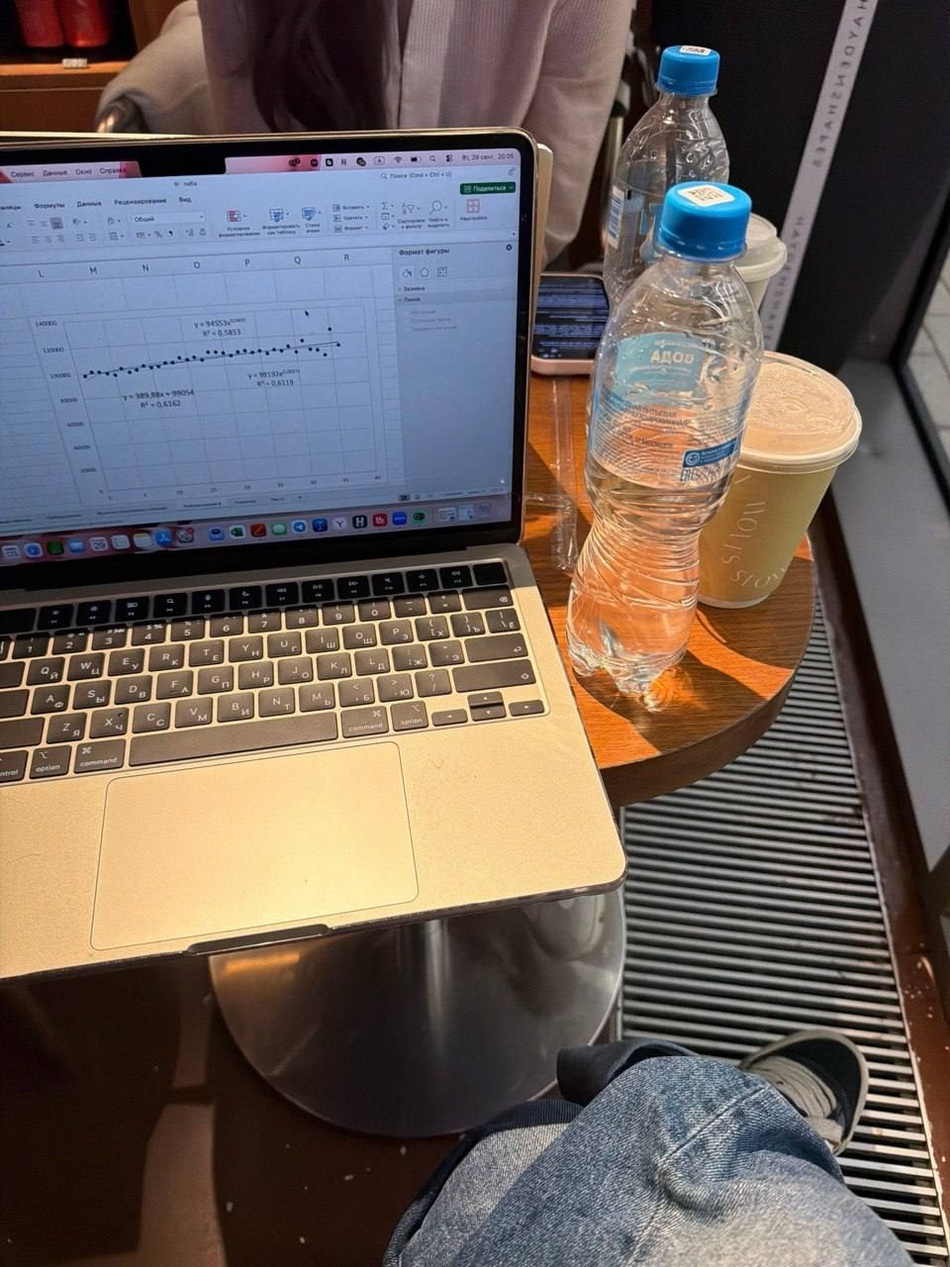cell phone: (530, 271, 611, 376)
laptop: (1, 126, 629, 984)
